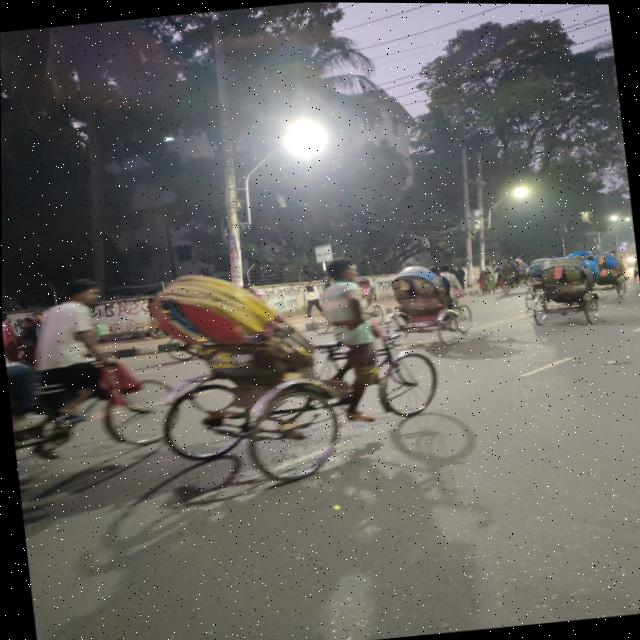rikshaw: (167, 256, 385, 495), (480, 247, 608, 384), (364, 251, 479, 368)
